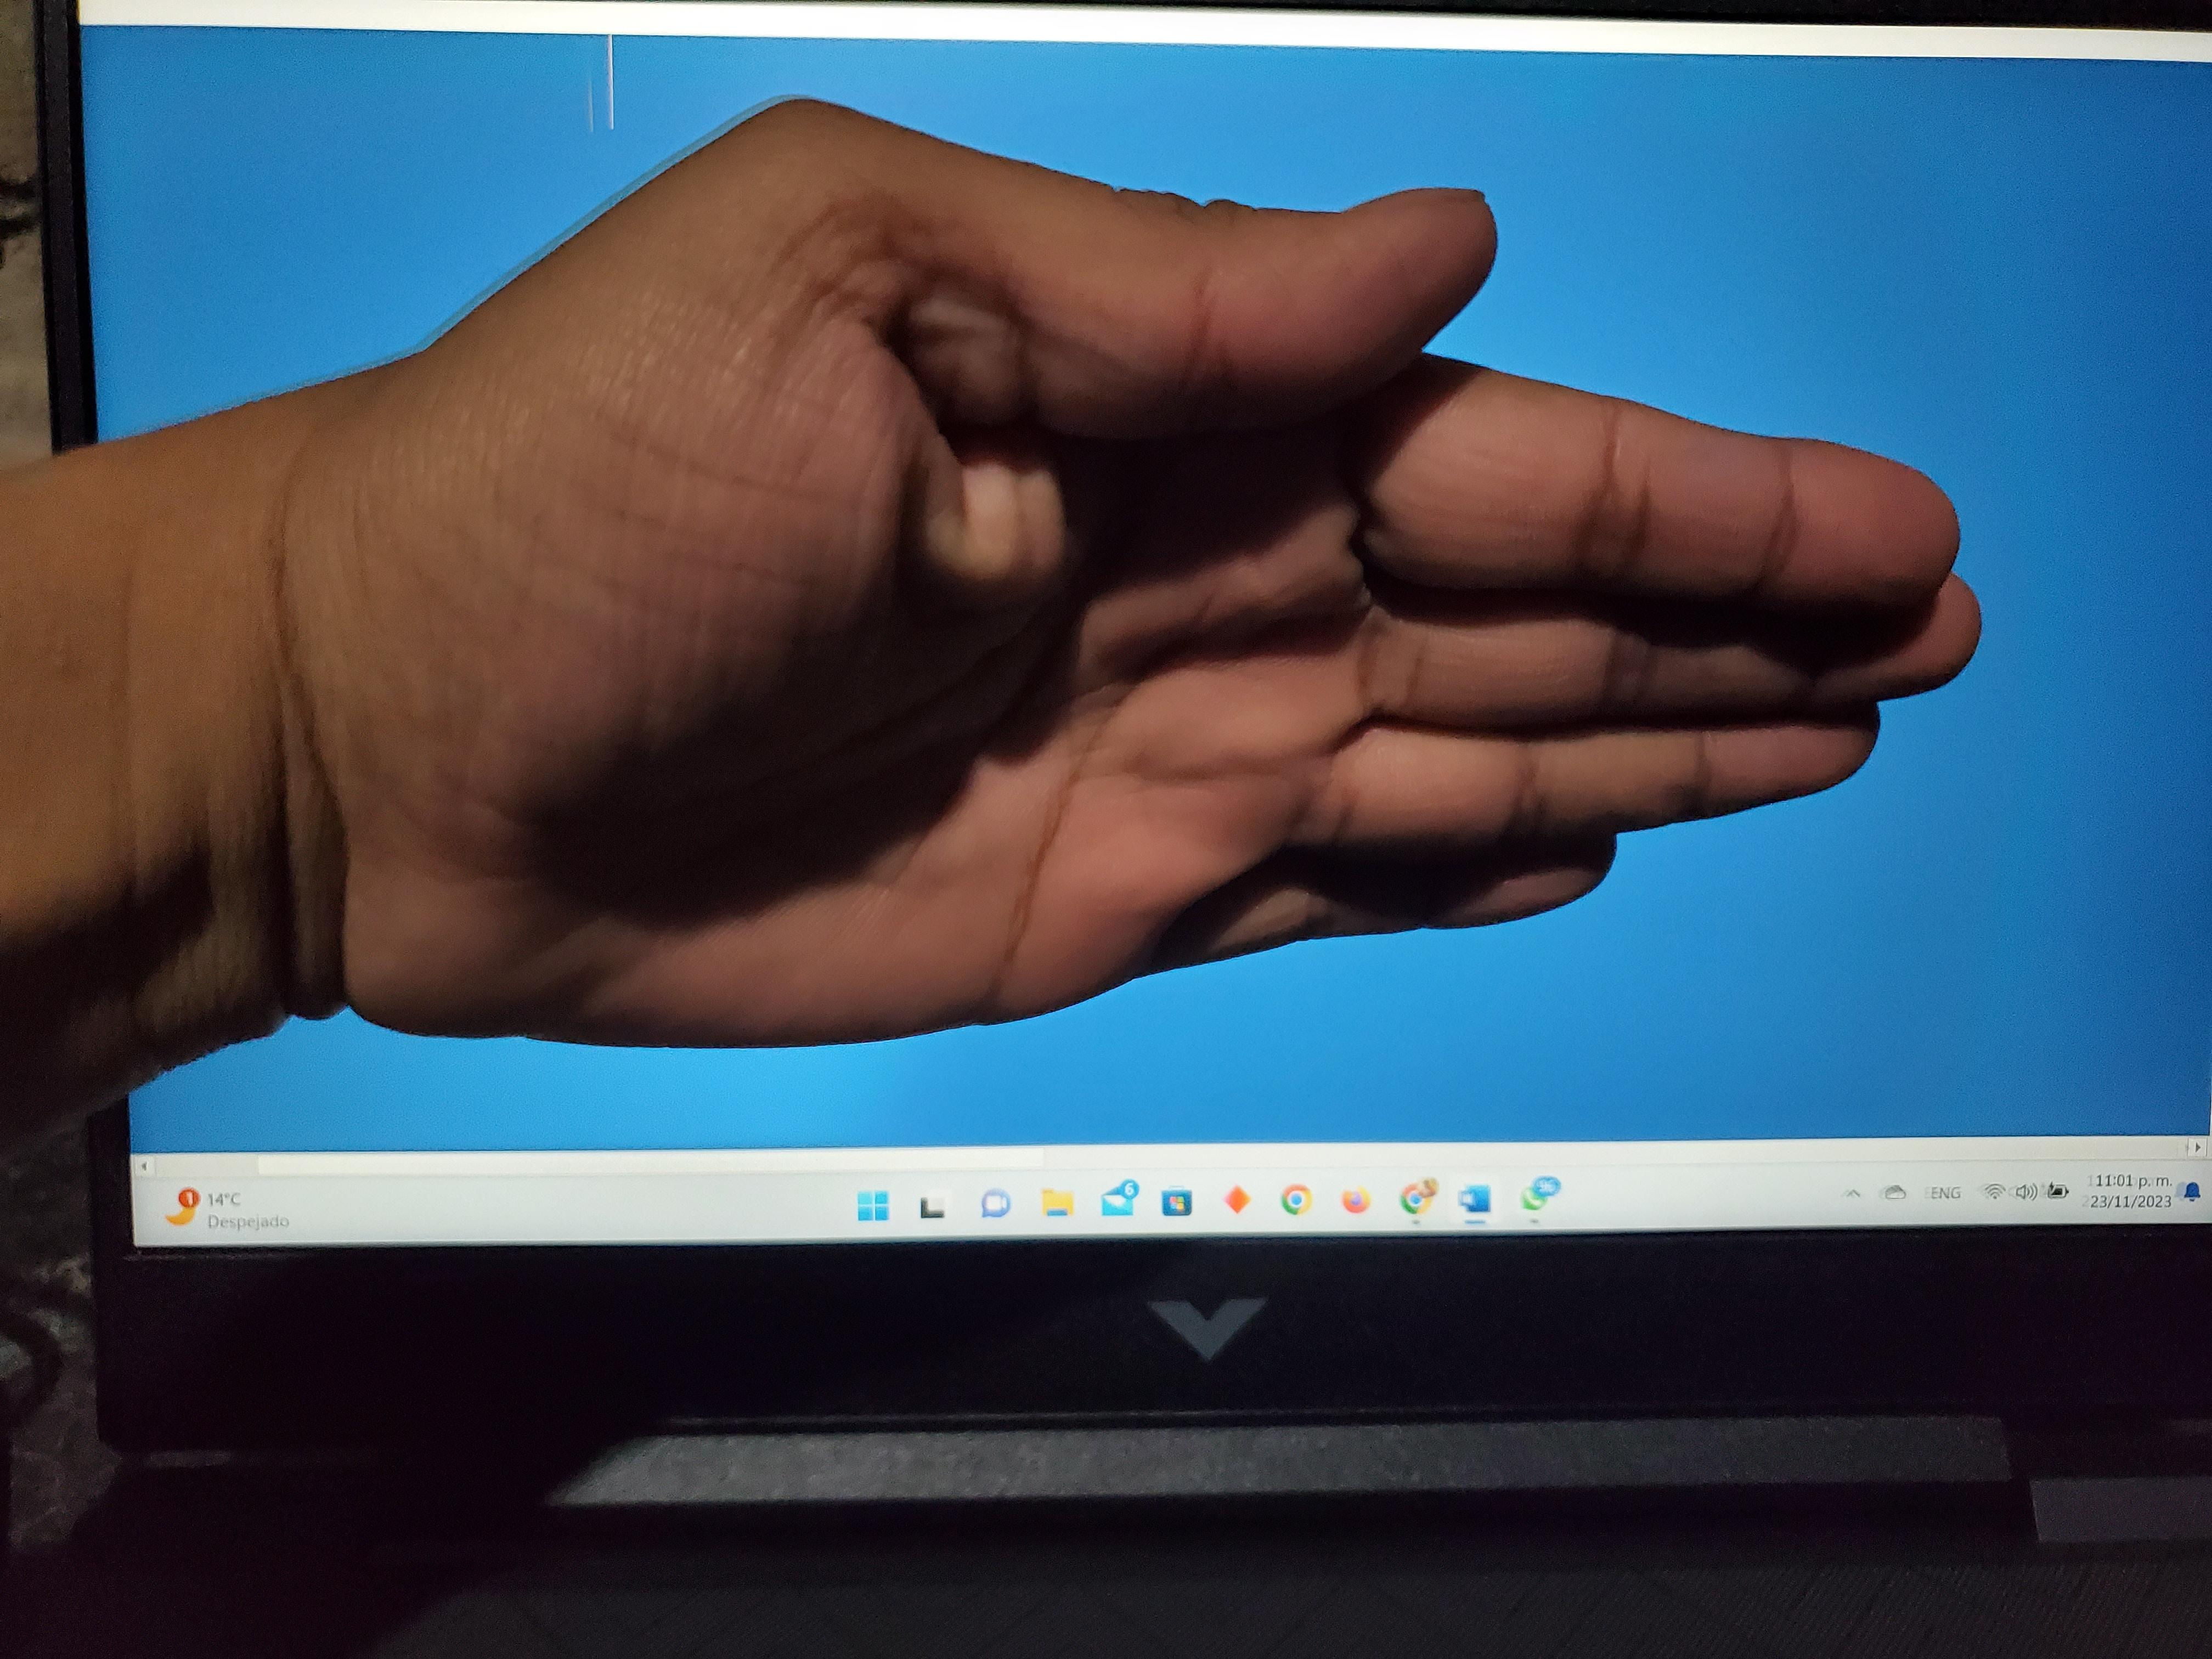Paper: (45, 40, 2050, 1087)
